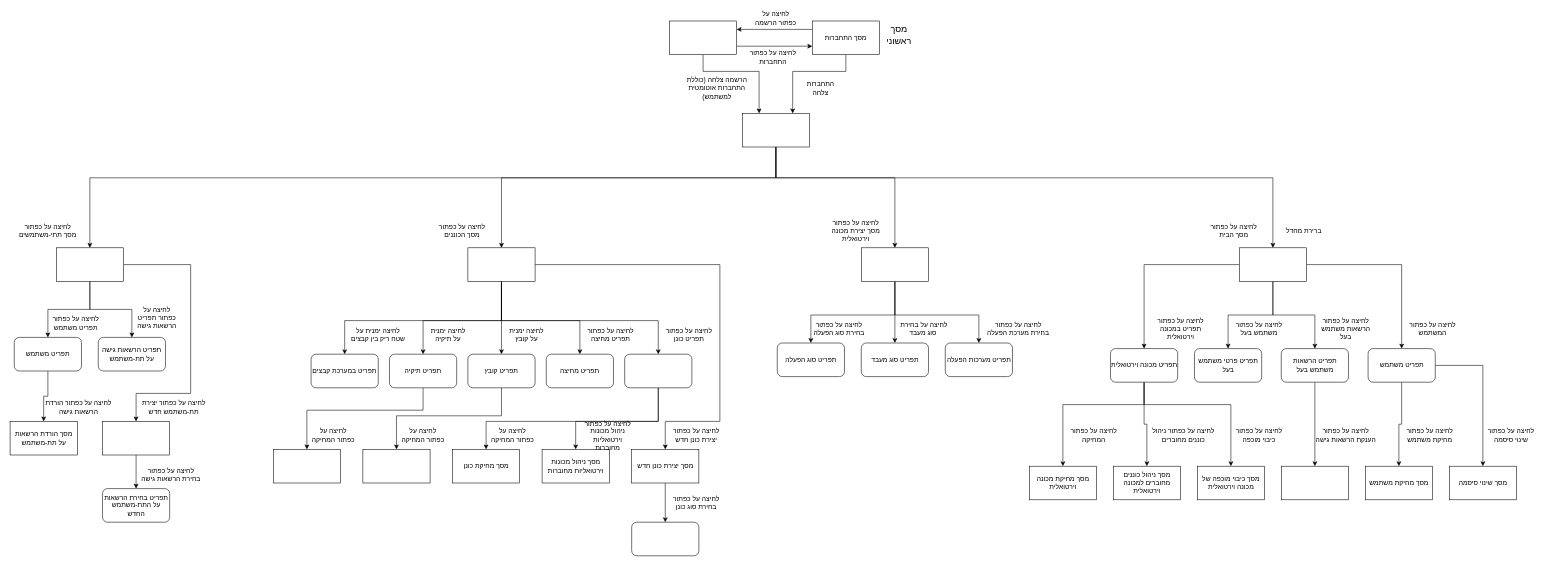
The diagram is 1546 pixels wide and 566 high, and some of its shapes have lost their labels. The shapes that lost their labels are listed below. From the top down, each one's centre as x and y in pixels, then its label:
point 703,37: מסך הרשמה
point 775,130: מסך ראשי
point 89,264: מסך תתי-משתמשים
point 501,264: מסך כוננים
point 894,264: מסך יצירת מכונה וירטואלית
point 1272,264: מסך הבית
point 658,371: תפריט כונן
point 136,438: מסך יצירת תת-משתמש חדש
point 306,466: מסך מחיקת תיקיה
point 396,466: מסך מחיקת קובץ
point 1314,483: מסך הענקת הרשאות גישה למשתמש בעל
point 665,539: תפריט סוג כונן
